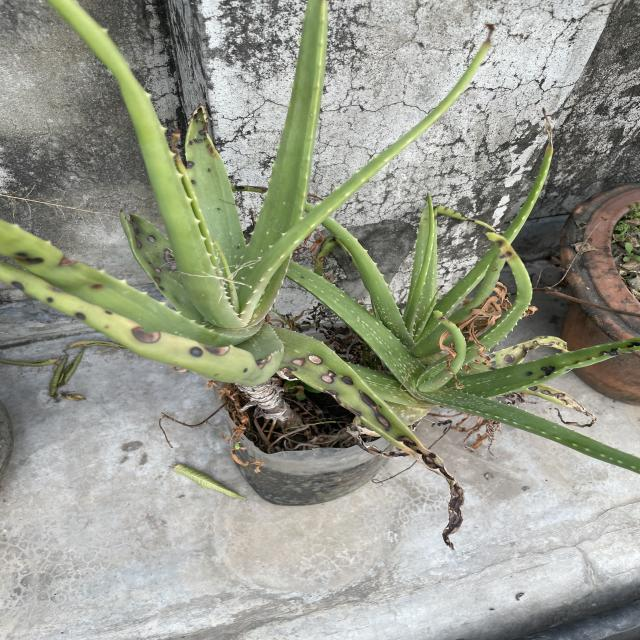Breeding Place: (228, 354, 410, 502), (588, 169, 640, 406)
